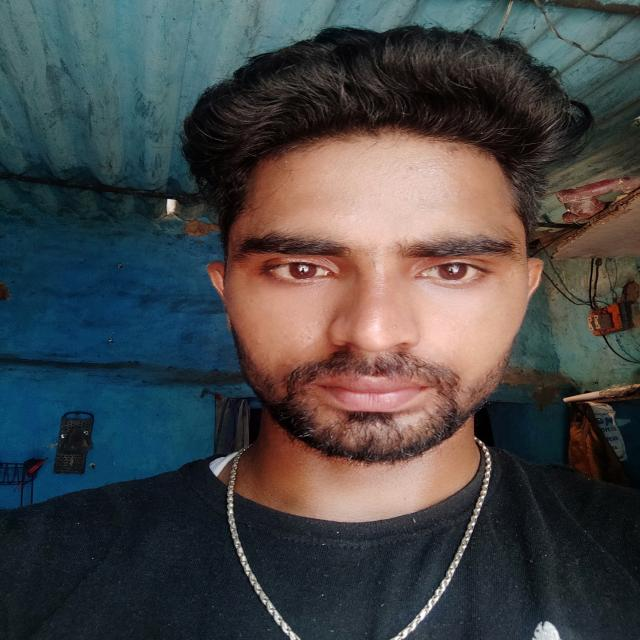Acne: (442, 148, 458, 167), (408, 165, 419, 175), (392, 323, 401, 332), (461, 161, 466, 168)
